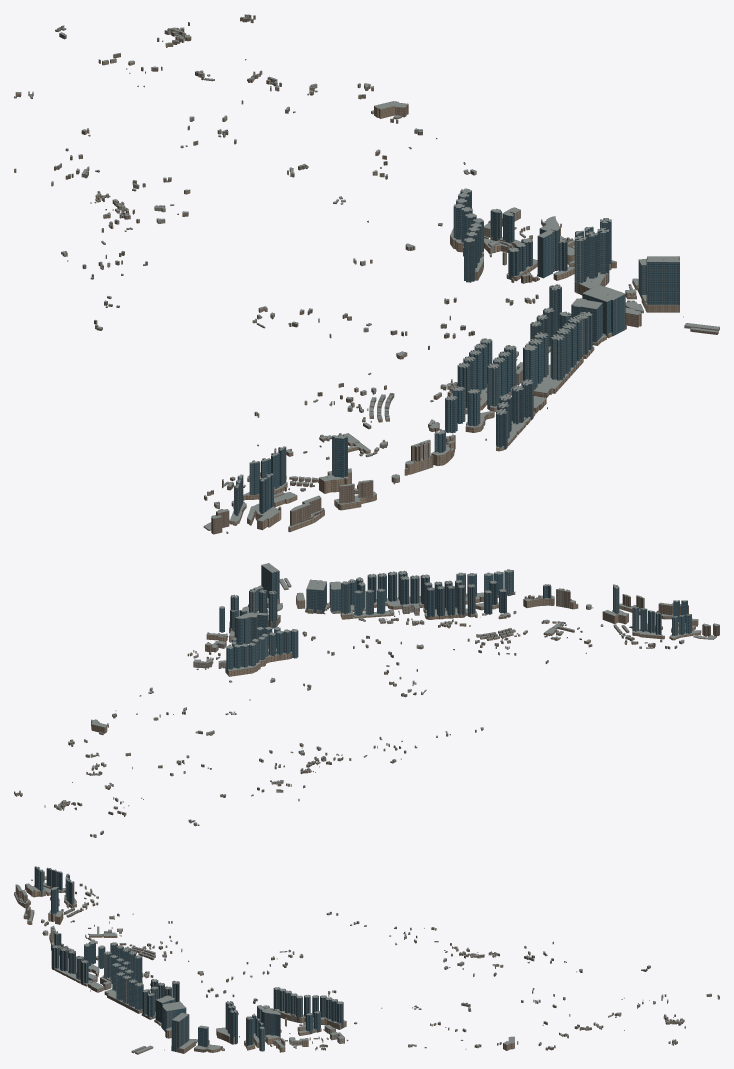
The model's file is tsuen-wan-west-buildings.glb.
3 views of the same model, one above another, from view 1: azimuth 30°, elevation 25°; view 2: azimuth 150°, elevation 25°; view 3: azimuth 270°, elevation 25° (orthographic). The views are drawn at different scales.
Visible parts, largest first — view 1: District_-54_-69, District_-55_-72, District_-57_-67, District_-59_-67, District_-54_-71, District_-58_-67, District_-55_-69, District_-60_-66, District_-65_-65, District_-56_-68, District_-59_-66, District_-64_-65 (+8 smaller); view 2: District_-59_-67, District_-57_-68, District_-58_-67, District_-56_-73, District_-55_-72, District_-65_-65, District_-55_-69, District_-57_-67, District_-56_-68, District_-54_-71, District_-60_-66, District_-56_-72 (+7 smaller); view 3: District_-56_-73, District_-54_-71, District_-54_-69, District_-56_-68, District_-57_-67, District_-59_-67, District_-55_-72, District_-59_-66, District_-55_-69, District_-60_-66, District_-57_-68, District_-64_-65 (+12 smaller).
Part boxes in pixels (x1,y1,x2,y2): District_-54_-69: (625,256,679,313); District_-55_-72: (502,216,559,281); District_-57_-67: (533,323,580,397); District_-59_-67: (447,338,510,414); District_-54_-71: (553,218,616,282); District_-58_-67: (504,332,552,395); District_-55_-69: (582,284,641,337); District_-60_-66: (445,386,494,433); District_-65_-65: (243,446,297,507); District_-56_-68: (559,298,606,365); District_-59_-66: (487,363,533,423); District_-64_-65: (290,435,351,493); District_-59_-67: (424,580,477,624); District_-57_-68: (353,573,394,621); District_-58_-67: (400,574,436,615); District_-56_-73: (227,632,292,676); District_-55_-72: (234,612,276,648); District_-65_-65: (632,606,664,639); District_-55_-69: (296,579,326,613); District_-57_-67: (374,570,424,609); District_-56_-68: (325,577,365,614); District_-54_-71: (229,589,267,633); District_-60_-66: (475,580,506,615); District_-56_-72: (274,627,298,660); District_-56_-73: (274,993,346,1028); District_-54_-71: (227,1005,263,1050); District_-54_-69: (171,1012,197,1053); District_-56_-68: (135,986,175,1025); District_-57_-67: (104,972,137,1011); District_-59_-67: (102,945,142,983); District_-55_-72: (257,1005,290,1039); District_-59_-66: (76,951,111,984); District_-55_-69: (162,1001,186,1038); District_-60_-66: (84,941,105,976); District_-57_-68: (135,979,171,1010); District_-64_-65: (48,887,77,924).
Size of what is drawn, in the model's own units: 1753 by 151 by 2944.
Materials: 7 (6 with a texture image).
